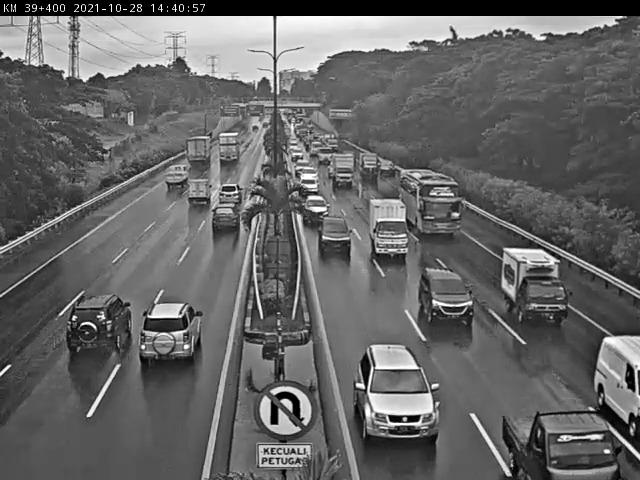big bus: (398, 169, 464, 238)
car: (352, 344, 442, 444), (137, 301, 205, 367), (65, 293, 133, 355), (417, 268, 475, 324), (317, 215, 352, 252), (210, 202, 242, 234), (302, 193, 329, 223), (217, 181, 243, 204)
mid truck: (366, 199, 411, 259)
small truck: (502, 249, 570, 327), (184, 177, 212, 205)
